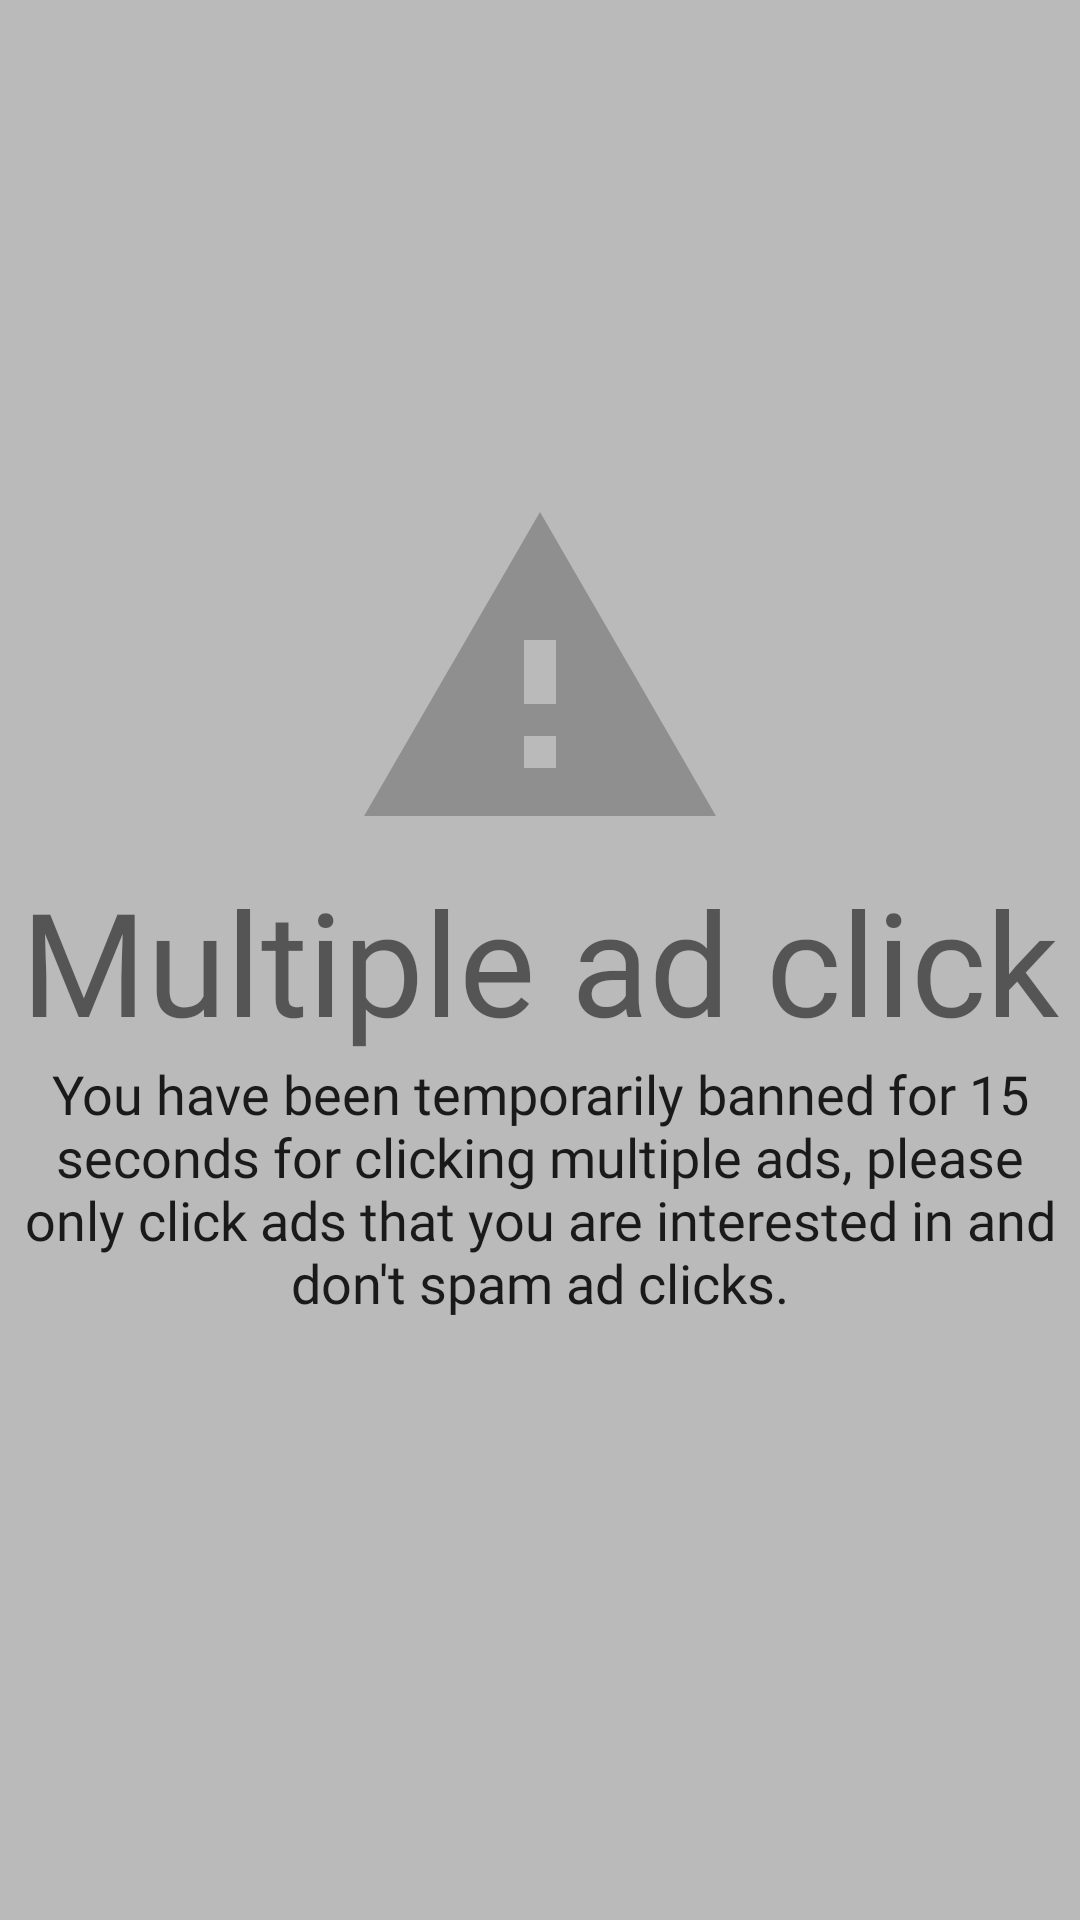

Screen size 1080 x 1920. Icon name, then its center in pixels as (x=x, y=y):
report problem: (x=540, y=664)
